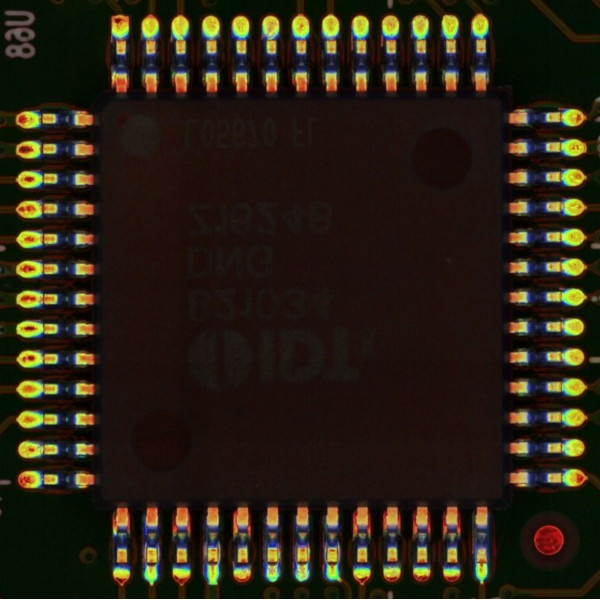Bad_podu: (147, 556, 157, 573), (208, 555, 217, 572), (268, 556, 277, 573), (478, 556, 487, 571), (329, 554, 336, 572), (300, 556, 307, 573)
